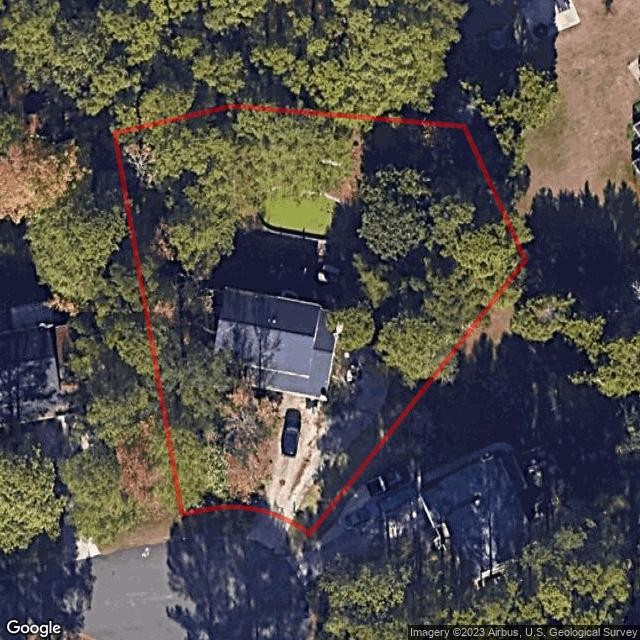Driveway: (261, 347, 391, 518)
Extra Driveway: (246, 514, 290, 546)
Extra Lawn: (182, 511, 256, 534), (280, 528, 307, 558)
House: (210, 288, 347, 401)
Other: (252, 184, 350, 243)
